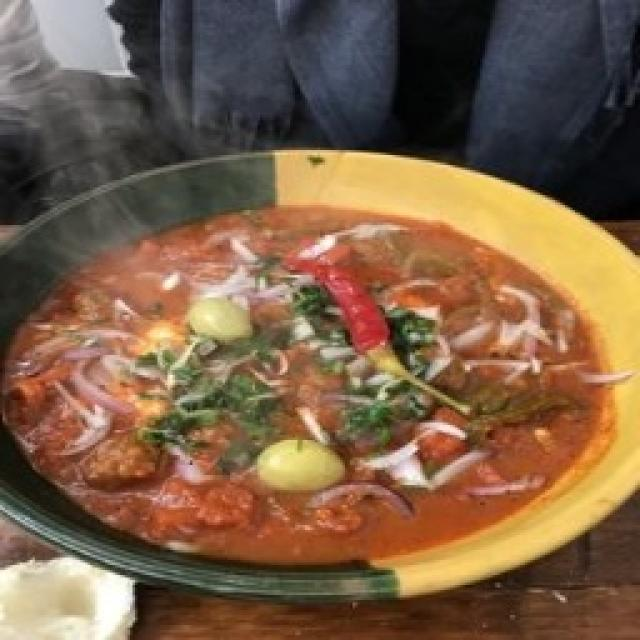Kamouniya: (5, 209, 619, 564)
